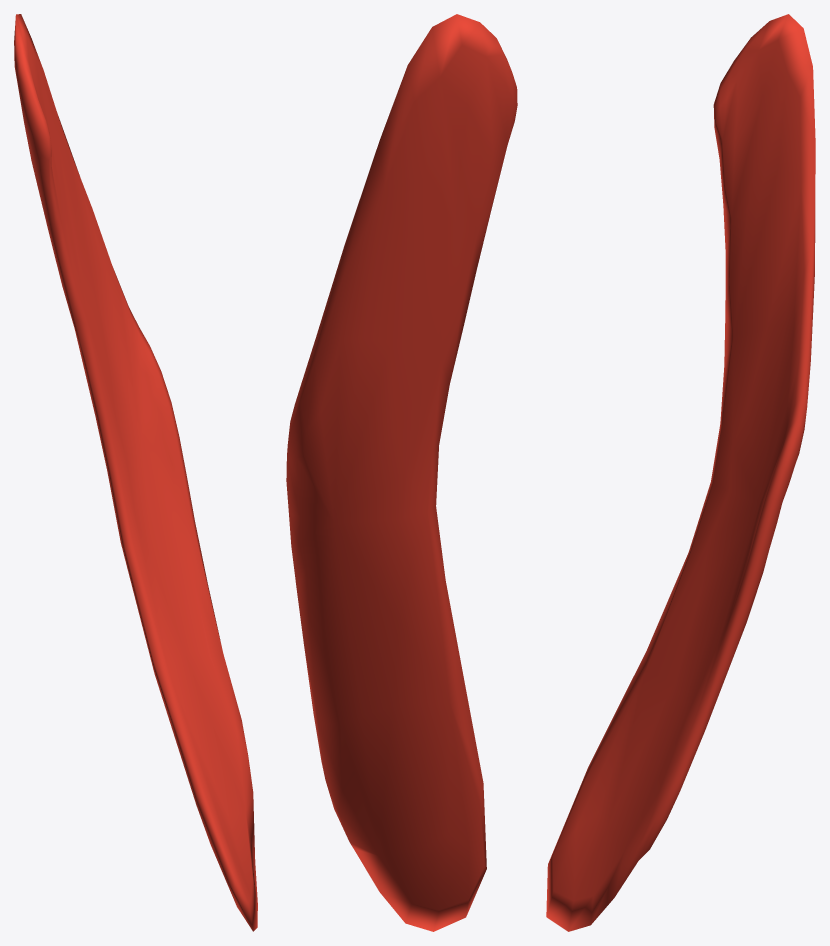
Rendered from Dorsal_interossei_5th_metacarpal_right.glb.
The picture shows the model from 3 angles, left to right: view 1: azimuth 30°, elevation 25°; view 2: azimuth 150°, elevation 25°; view 3: azimuth 270°, elevation 25°; orthographic projection. The views are drawn at different scales.
Parts seen in each view (by area): view 1: Dorsal_interosseus_musclesof_5th_metacarpal_bone.r_Generated; view 2: Dorsal_interosseus_musclesof_5th_metacarpal_bone.r_Generated; view 3: Dorsal_interosseus_musclesof_5th_metacarpal_bone.r_Generated.
Boxes of the visible parts, box(x1,y1,x2,y2) form: Dorsal_interosseus_musclesof_5th_metacarpal_bone.r_Generated: box(14, 14, 257, 931); Dorsal_interosseus_musclesof_5th_metacarpal_bone.r_Generated: box(286, 14, 517, 931); Dorsal_interosseus_musclesof_5th_metacarpal_bone.r_Generated: box(546, 14, 815, 931).
Bounding box in the file's own units: 0.00531 × 0.0239 × 0.00683.
